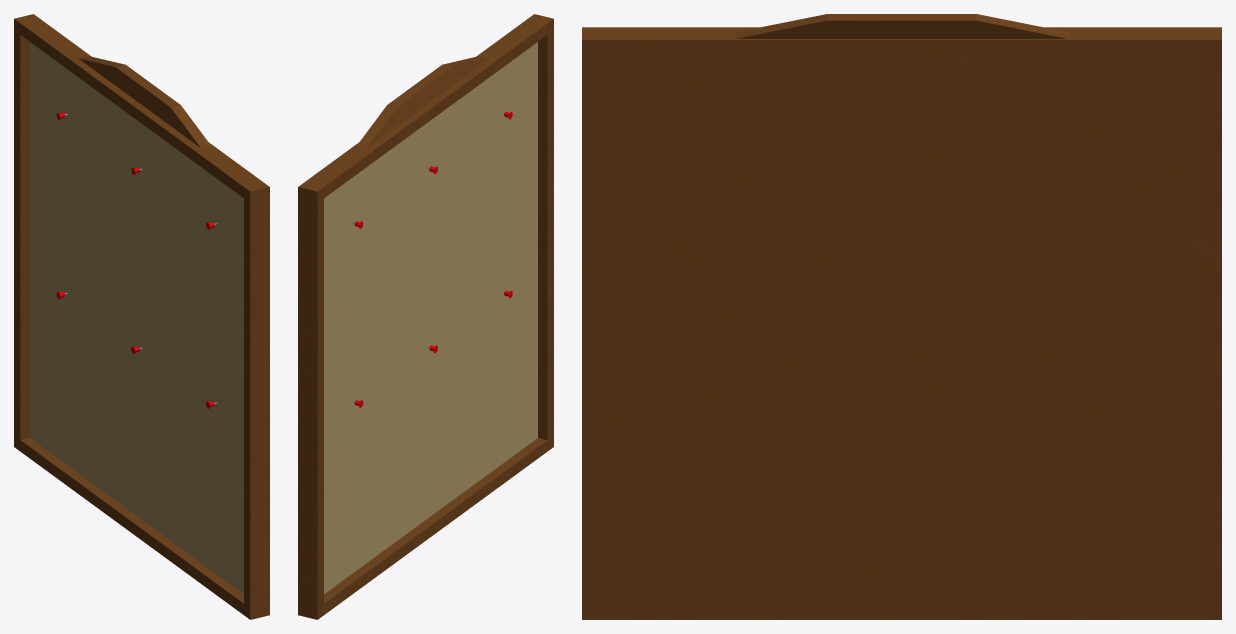
Rendered from corkboard.glb.
3 renders of one model, left to right at view 1: azimuth 30°, elevation 25°; view 2: azimuth 150°, elevation 25°; view 3: azimuth 270°, elevation 25°, orthographic. The views are drawn at different scales.
Parts seen in each view (by area): view 1: corkboard; view 2: corkboard; view 3: corkboard.
Part boxes in pixels (<box>): corkboard: <box>14,14,269,619</box>; corkboard: <box>298,14,553,619</box>; corkboard: <box>582,14,1221,619</box>.
Size of the model in its own units: 0.103 by 2.07 by 2.
4 materials, 2 textured.
